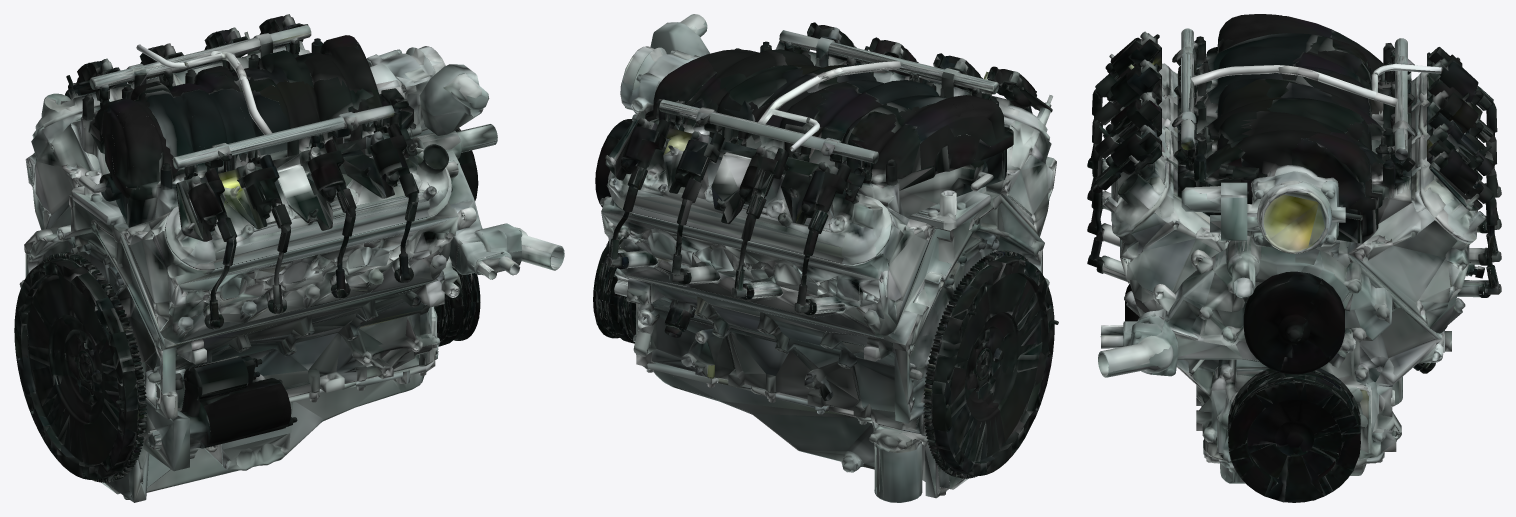
The model's file is eng-v8-50-ohv.glb.
The picture shows the model from 3 angles, left to right: view 1: azimuth 30°, elevation 25°; view 2: azimuth 150°, elevation 25°; view 3: azimuth 270°, elevation 25°; orthographic projection. The views are drawn at different scales.
Parts seen in each view (by area): view 1: Object_6; view 2: Object_6; view 3: Object_6.
Boxes of the visible parts, box(x1,y1,x2,y2) form: Object_6: box(14, 14, 564, 502); Object_6: box(593, 14, 1058, 502); Object_6: box(1087, 14, 1501, 502).
Bounding box in the file's own units: 2 × 1.72 × 1.66.
Materials: 1 (1 with a texture image).
